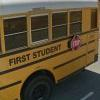Bus: (1, 2, 95, 97)
